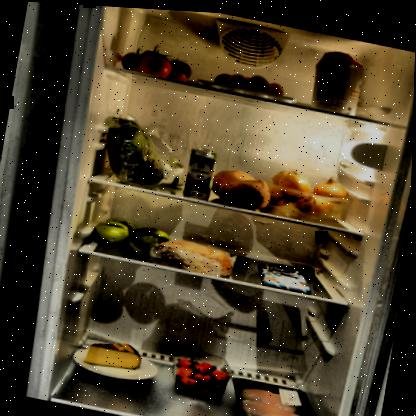apple: (91, 211, 177, 257)
cheese: (82, 335, 149, 374)
chicken: (226, 370, 330, 415)
chocolate: (256, 258, 317, 291)
eggs: (212, 62, 289, 98)
heavy_cream: (182, 142, 221, 199)
onion: (259, 159, 353, 222)
spinach: (96, 112, 197, 192)
strawberries: (172, 348, 236, 397)
sweet_potato: (204, 160, 275, 209)
tomato: (114, 36, 197, 82)
